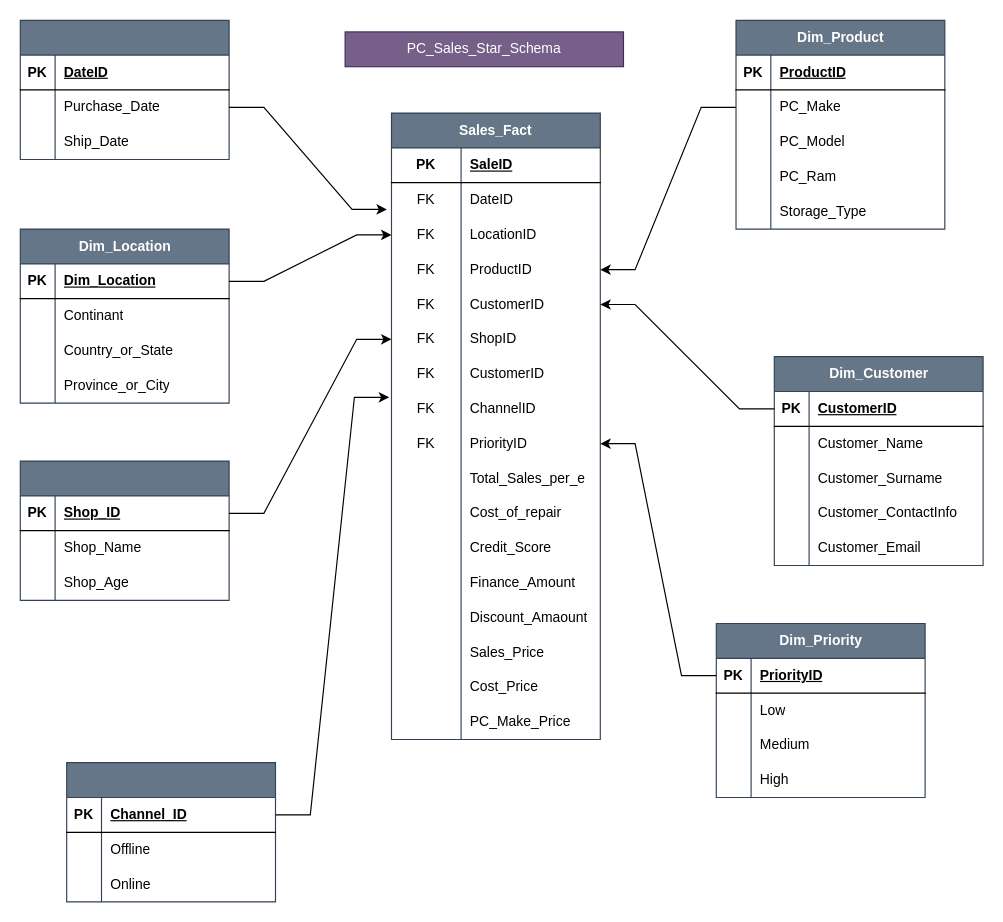
The diagram is 1003 pixels wide and 922 high, and some of its shapes have lost their labels. The box of each missing label's shape, as (x1, y1, x2, y2) in pixels:
Dim_Channel: (66, 762, 276, 902)
Dim_Date: (19, 19, 229, 160)
Dim_Shop: (19, 460, 229, 600)
